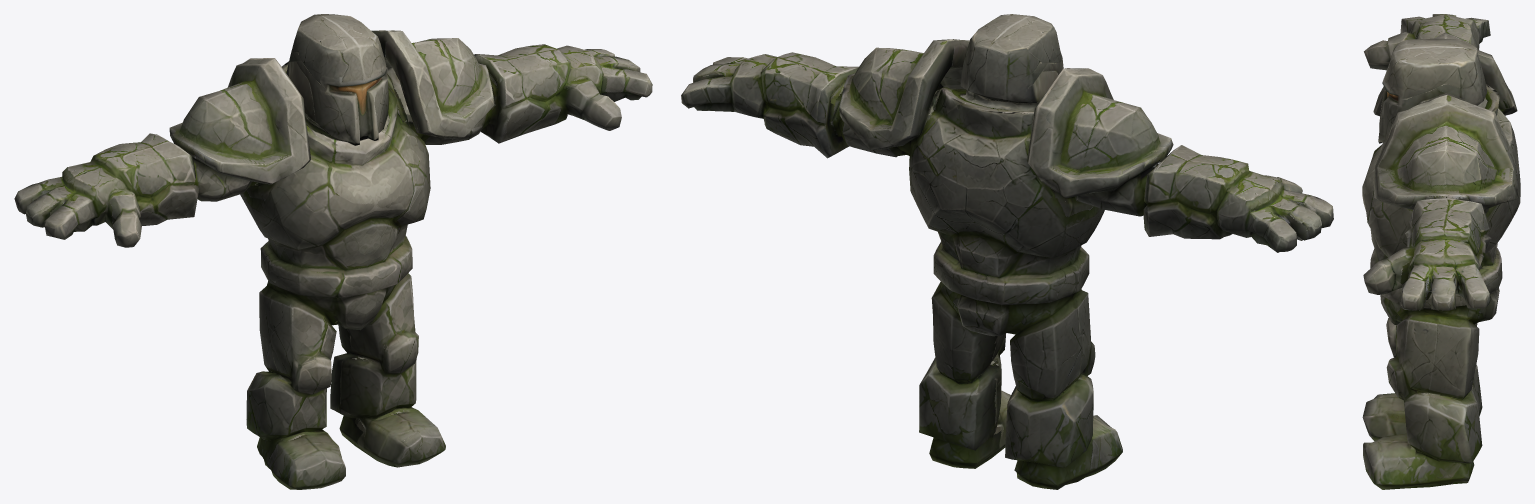
The model's file is Enemy_Statue.fbx.
3 renders of one model, left to right at view 1: azimuth 30°, elevation 25°; view 2: azimuth 150°, elevation 25°; view 3: azimuth 270°, elevation 25°, orthographic. The views are drawn at different scales.
Visible parts, largest first — view 1: texture_mapping; view 2: texture_mapping; view 3: texture_mapping.
Part boxes in pixels (<box>): texture_mapping: <box>14,14,652,489</box>; texture_mapping: <box>681,14,1333,489</box>; texture_mapping: <box>1362,14,1520,489</box>.
Size of the model in its own units: 1 by 0.2363 by 0.6728.
1 material, 1 textured.
